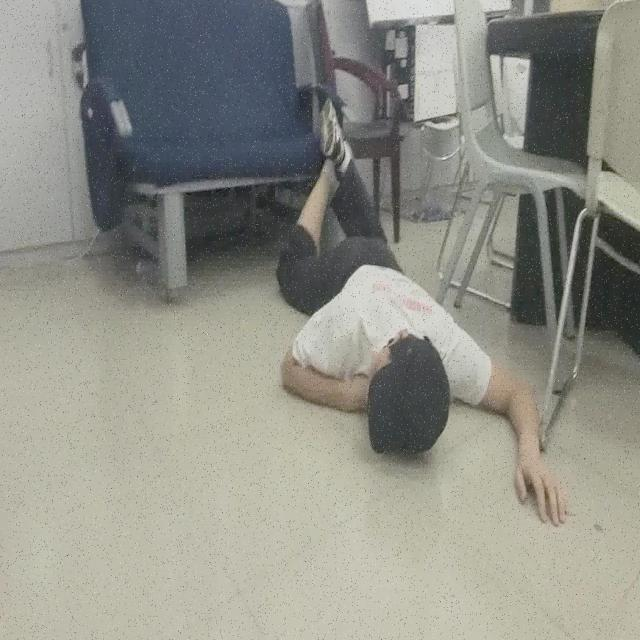fall: (274, 92, 570, 530)
